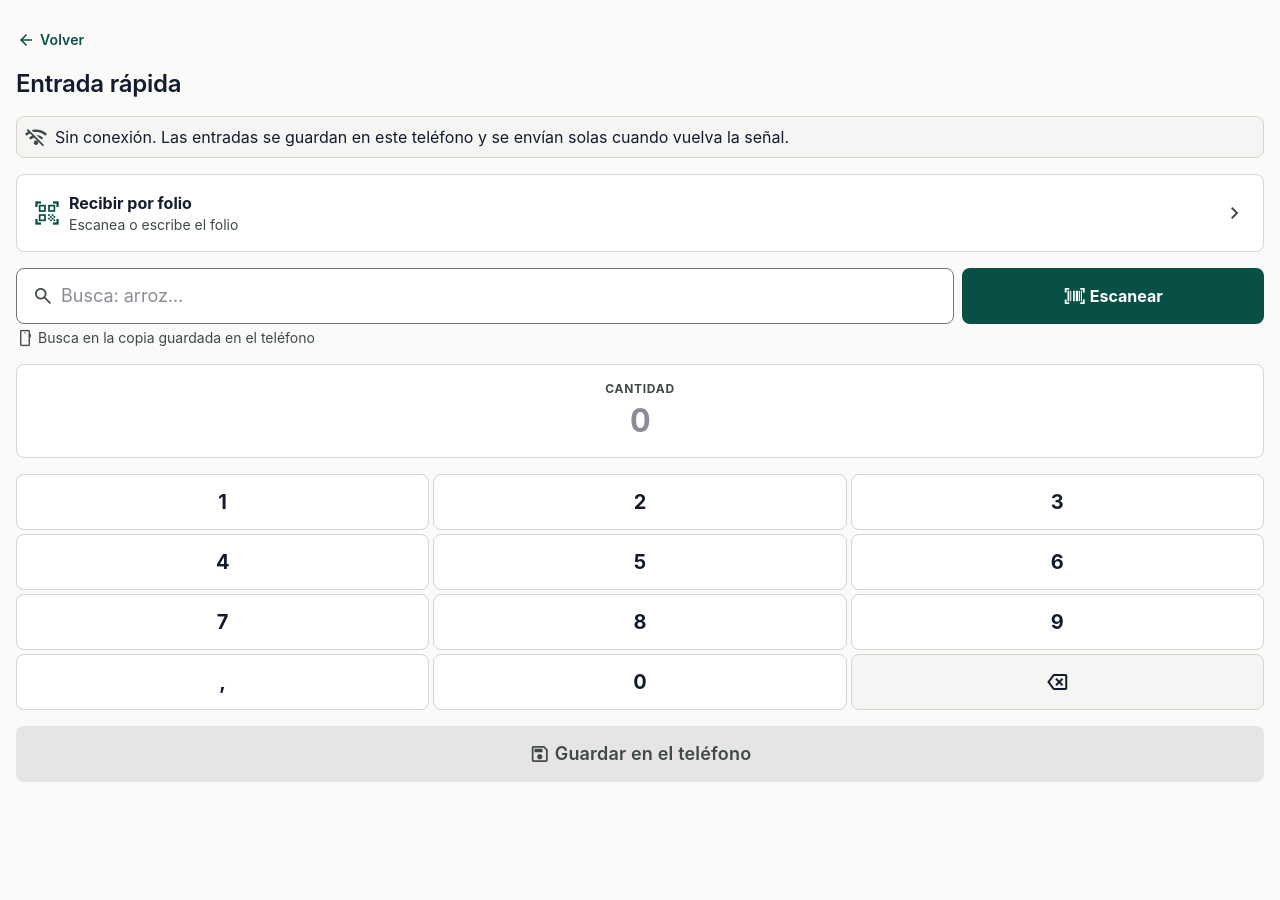
C4 sin conexión › con «no recibir» guardado avisa igual que con red
This screenshot has width=1280, height=900.
Type "pañal" into the search field named "Categoría" at (485, 296), box [16,268,954,324]
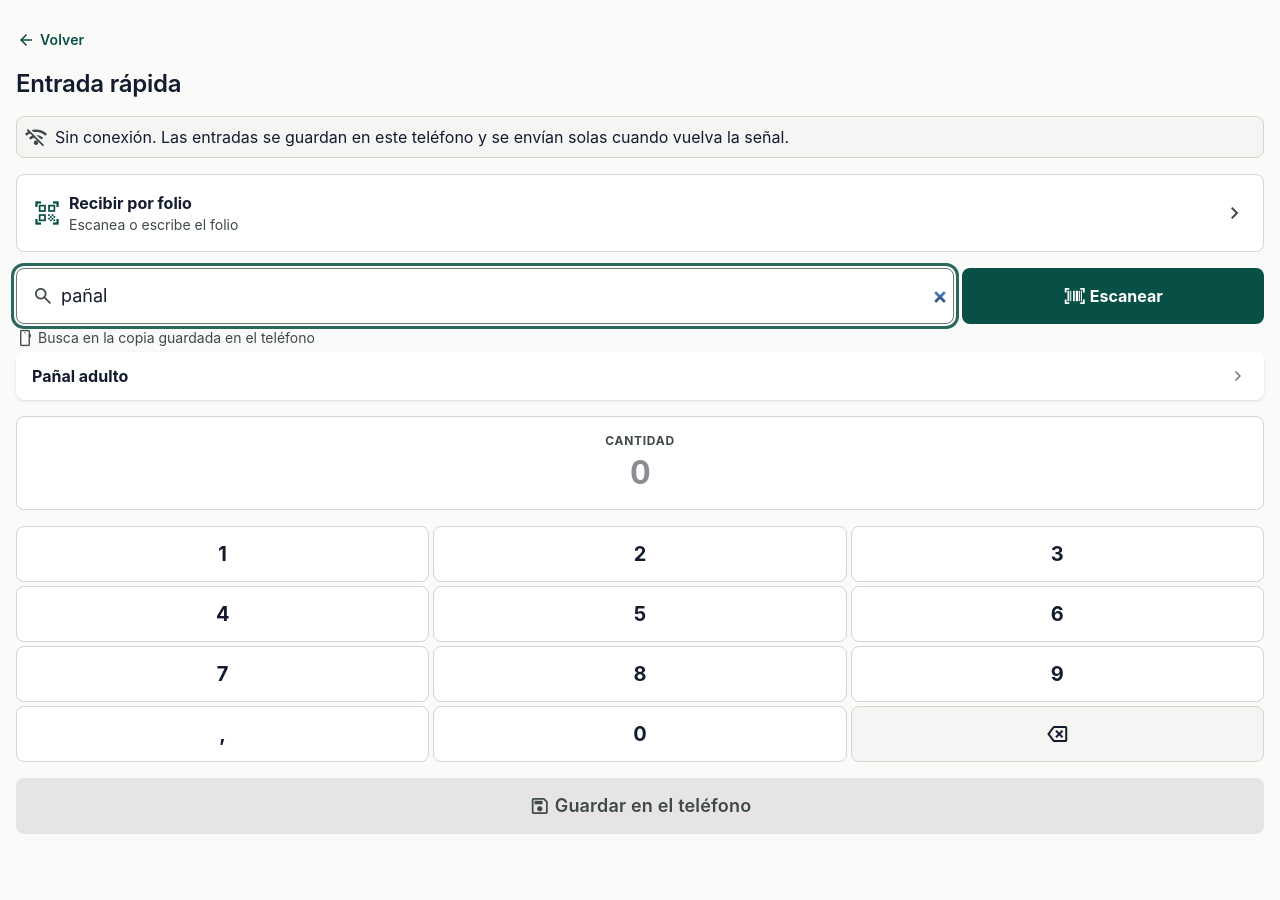
Click the button "Pañal adulto" at (80, 376), box [16,352,1264,400]
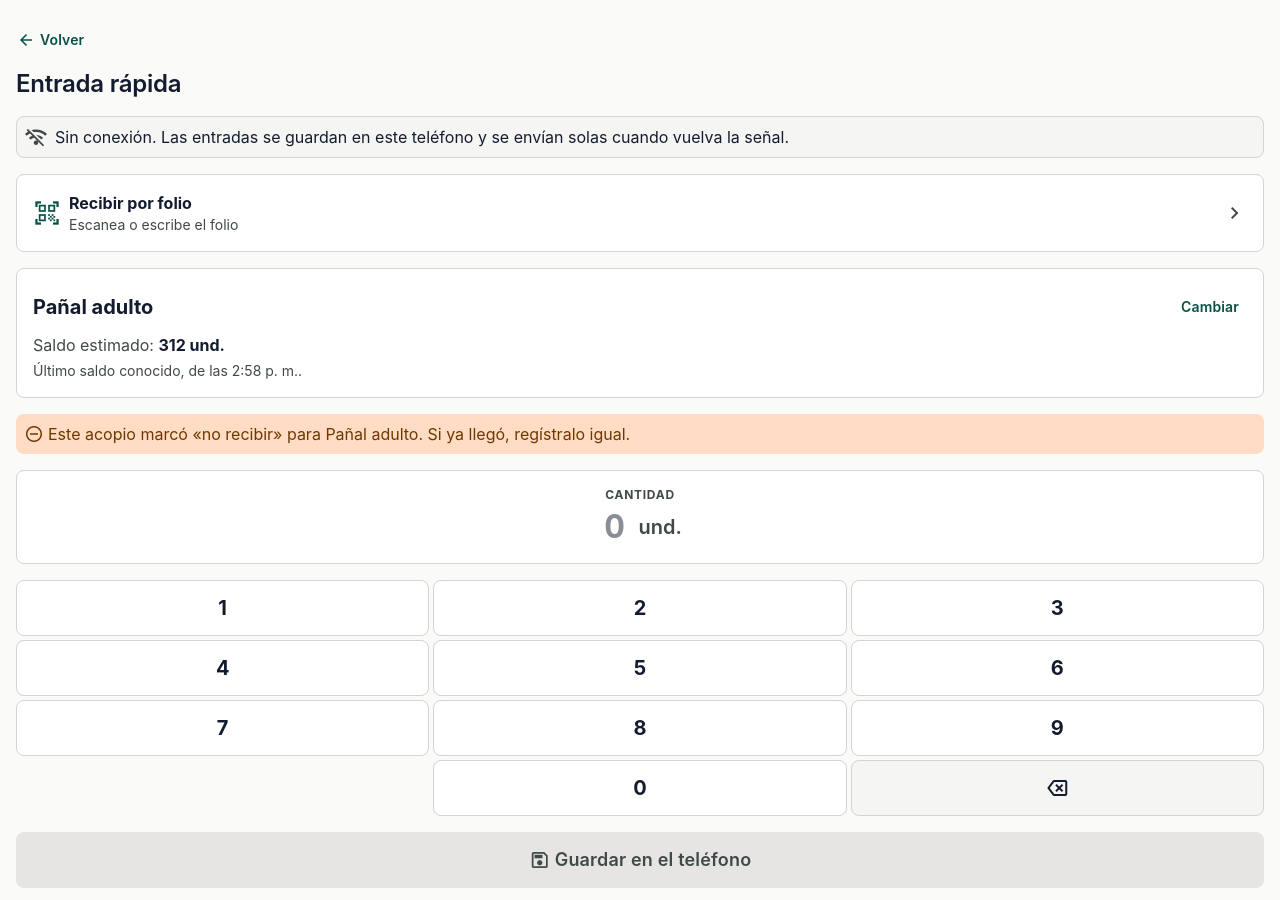
Now the message shows "marcó «no recibir» para Pañal adulto", box [16,414,1264,454]
